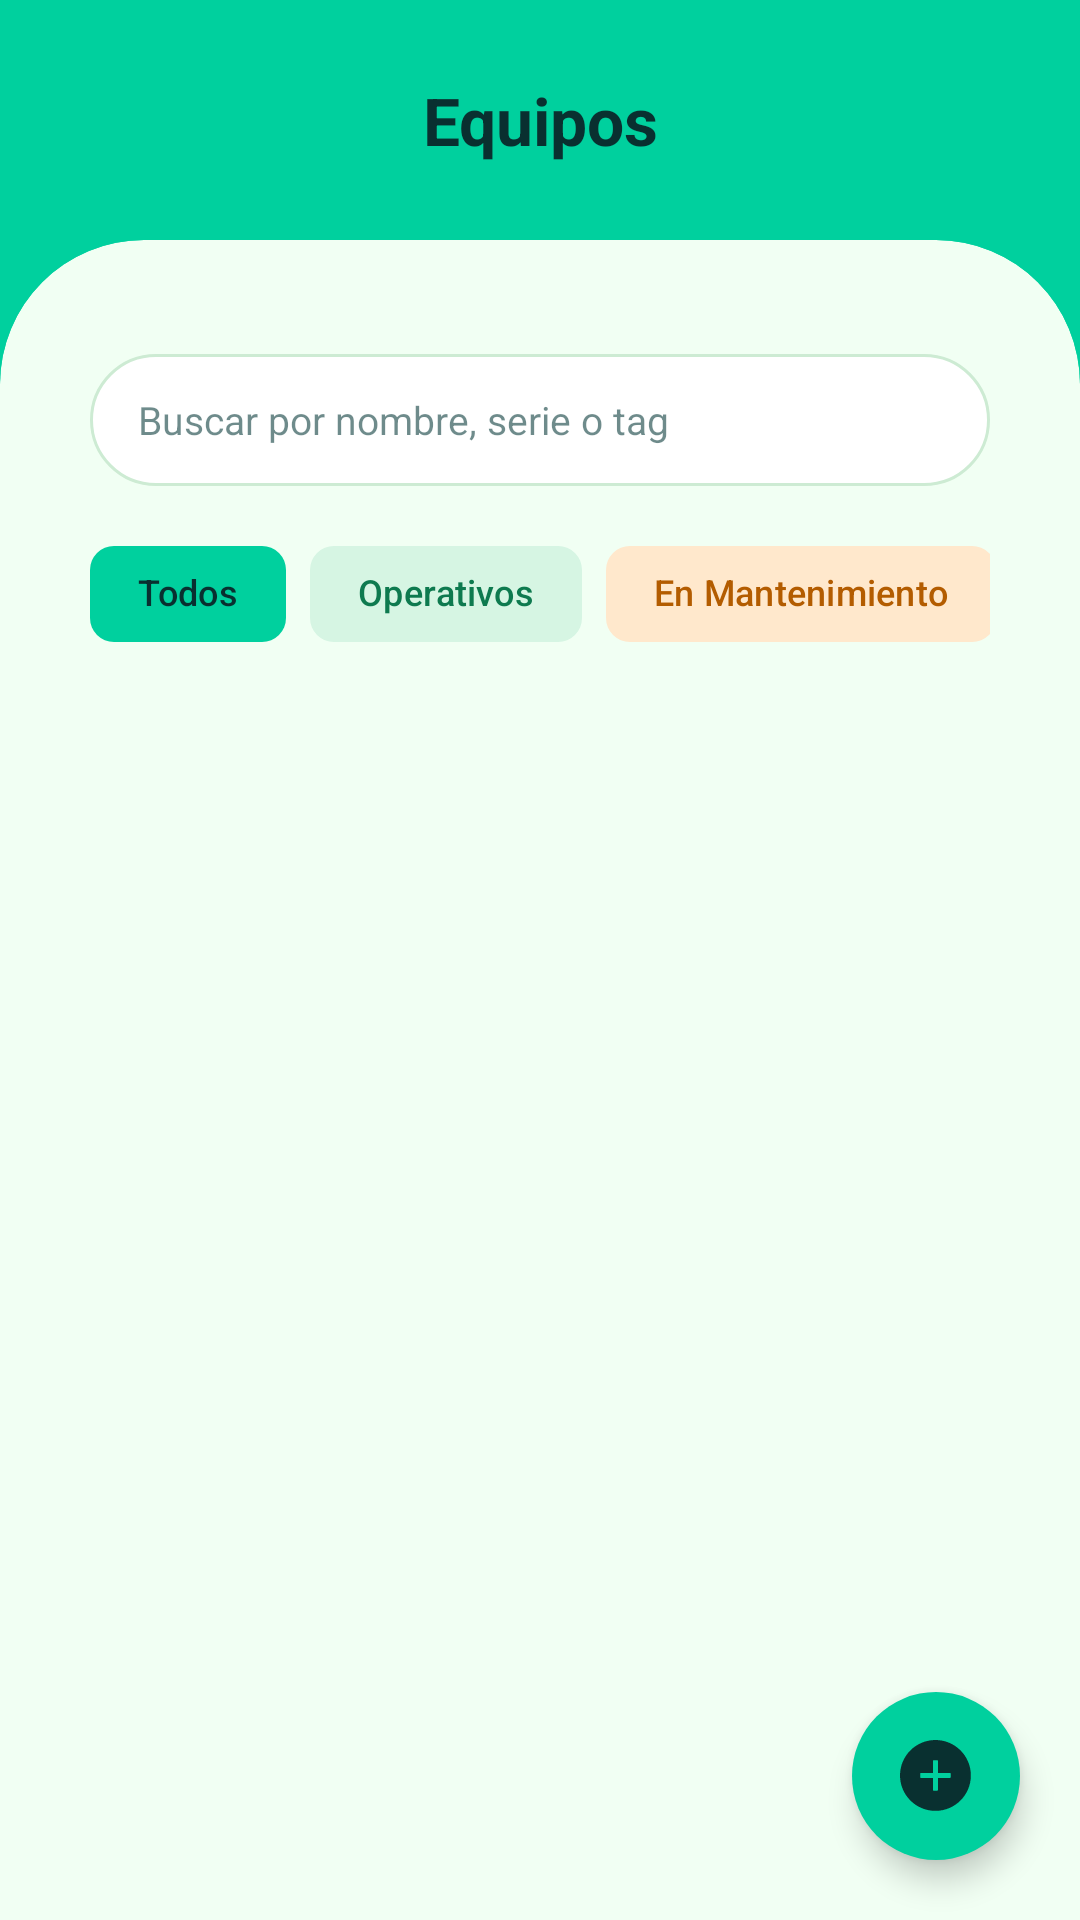

Named icons in this screenshot (1080×1920) and their bounding boxes, box=[x1, y1, x2, y2]:
Agregar equipo: box=[852, 1692, 1020, 1860]
